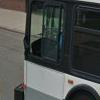Bus: (15, 4, 100, 100)
